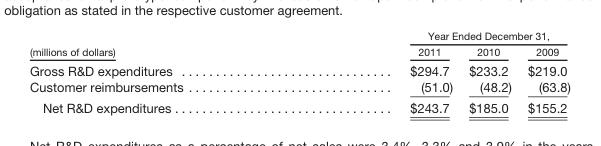table: (28, 29, 569, 115)
table column: (28, 29, 296, 115), (296, 29, 460, 115), (460, 29, 518, 115), (518, 29, 569, 115)
table column header: (28, 29, 569, 60)
table row: (28, 96, 569, 115), (28, 60, 569, 78), (28, 78, 569, 96), (28, 43, 569, 60), (28, 29, 569, 43)
table spanning cell: (28, 29, 296, 60), (296, 29, 569, 43)
